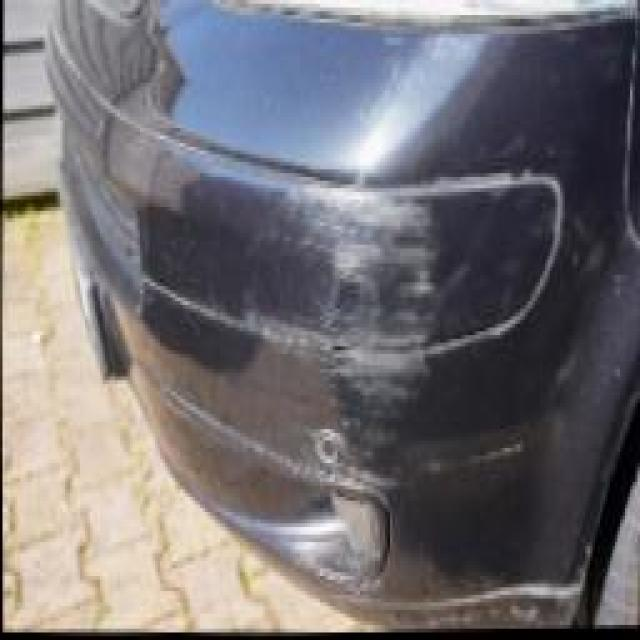Bumper: (230, 139, 579, 623)
